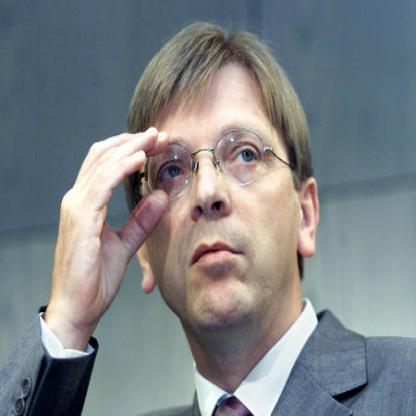face: (125, 29, 303, 335)
